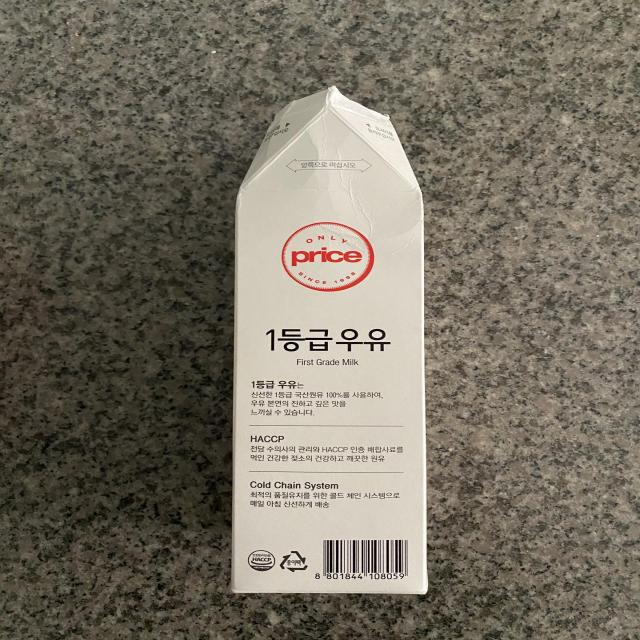paperpack: (231, 86, 428, 595)
